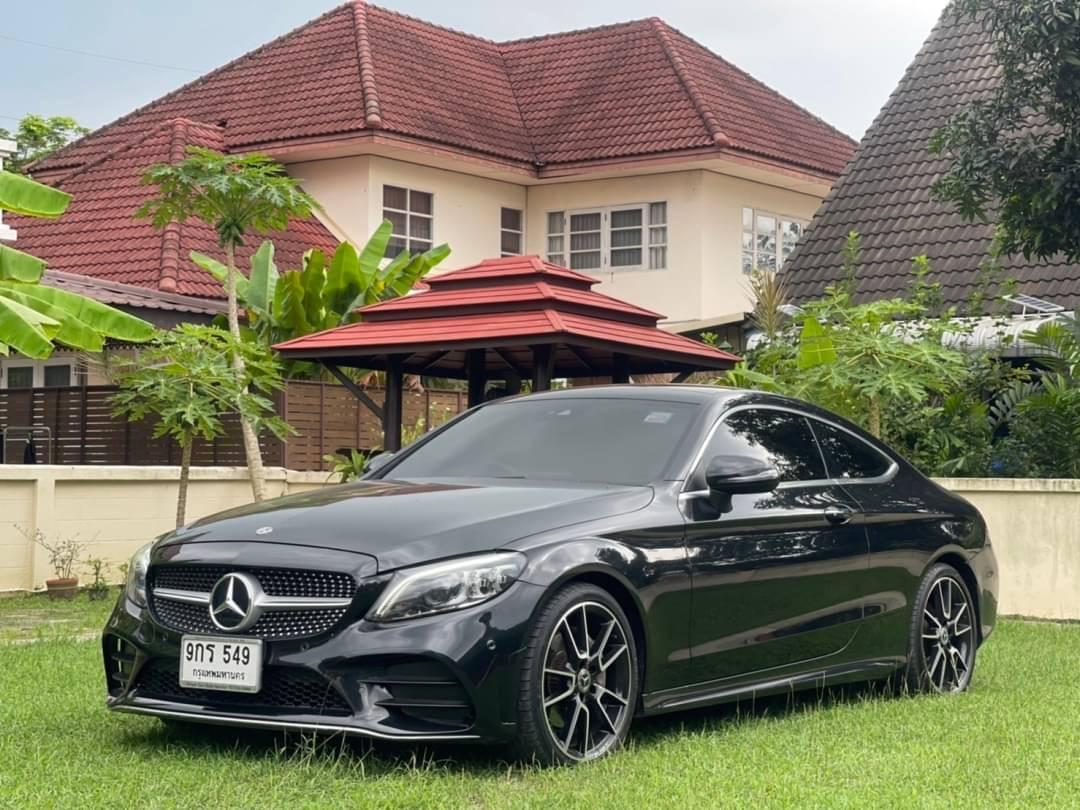license-plate: (178, 629, 261, 696)
